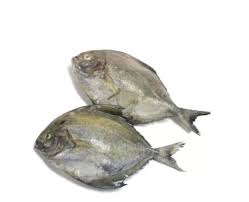Ikan Bawal: (21, 101, 186, 191), (66, 49, 210, 138)
